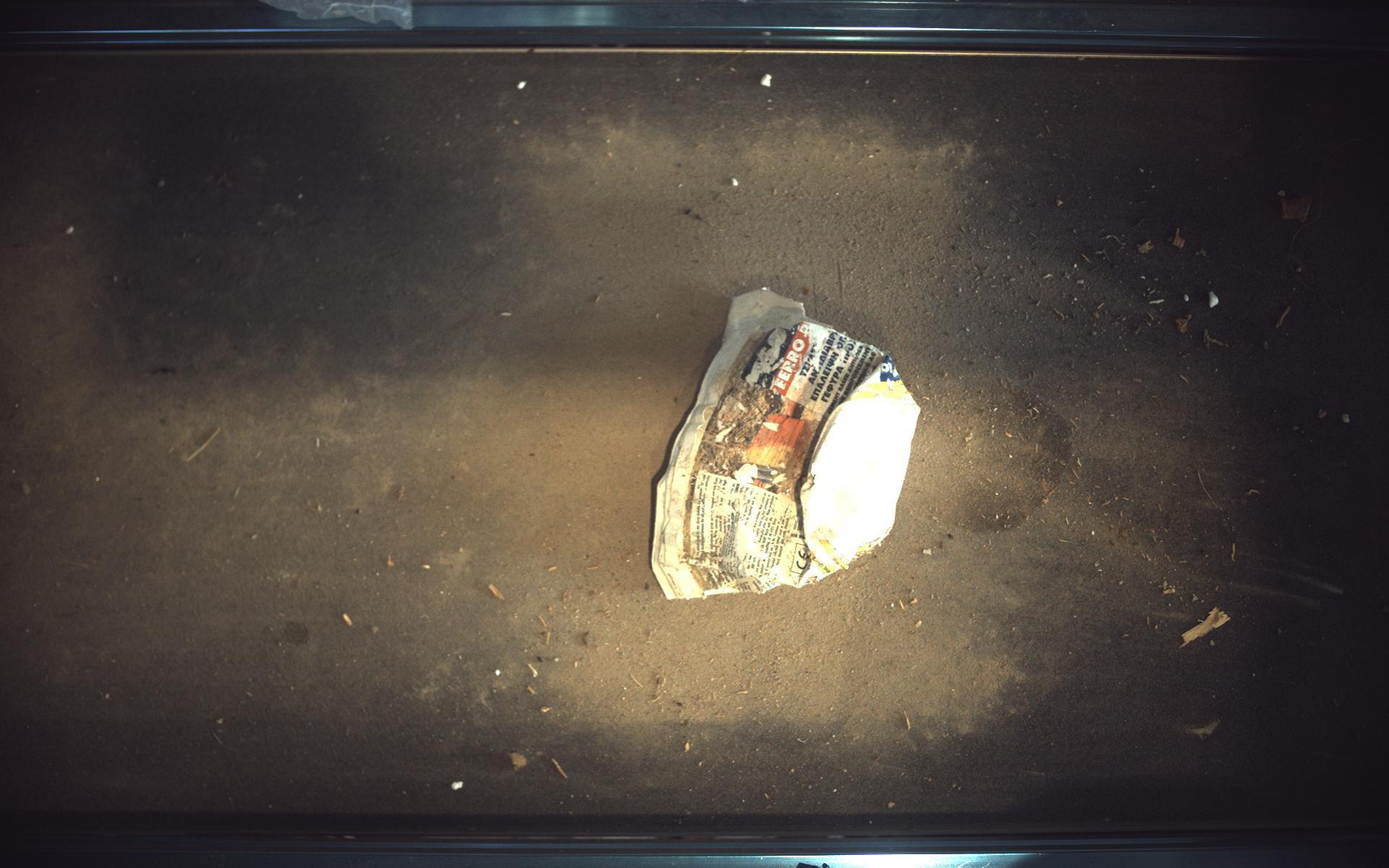plastic: (653, 289, 922, 600)
